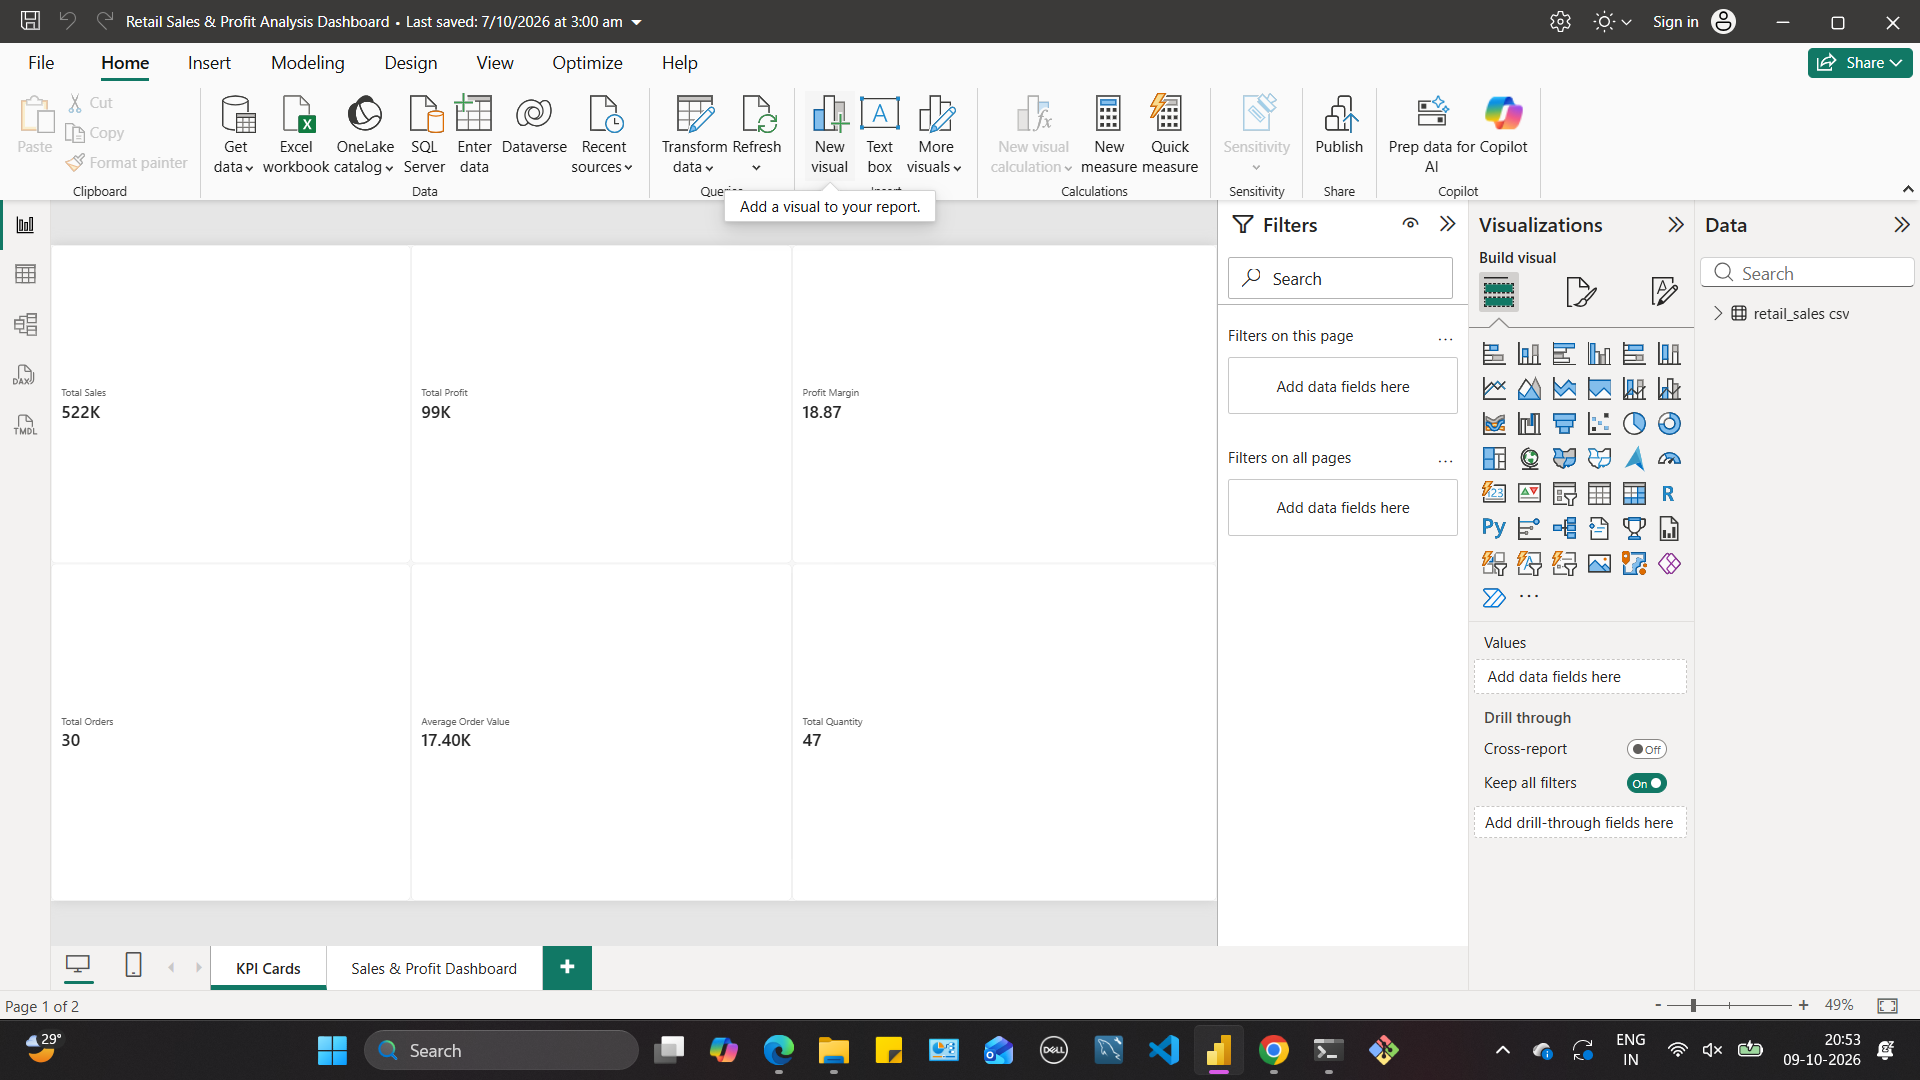

Layout of this report page (visuals, bound fields, positions):
{"tool":"powerbi","page":{"name":"KPI Cards","canvas":[1920,1080],"ordinal":0},"visuals":[{"type":"cardVisual","fields":{"Data":["retail_sales csv.Total Sales"]},"box":[0,0,592.8,524.9],"z":0},{"type":"cardVisual","fields":{"Data":["retail_sales csv.Total Profit"]},"box":[592.8,0,627.8,524.9],"z":1},{"type":"cardVisual","fields":{"Data":["retail_sales csv.Total Orders"]},"box":[0,524.9,592.8,555.7],"z":2},{"type":"cardVisual","fields":{"Data":["retail_sales csv.Average Order Value"]},"box":[592.8,524.9,627.8,555.7],"z":3},{"type":"cardVisual","fields":{"Data":["retail_sales csv.Total Quantity"]},"box":[1220.6,524.9,699.8,555.7],"z":4},{"type":"cardVisual","fields":{"Data":["retail_sales csv.Profit Margin"]},"box":[1220.6,0,699.8,524.9],"z":5}]}

Visuals, with their boxes on the page's 1920x1080 design canvas (x1, y1, x2, y2). These are canvas units, not pixel positions in the 1920x1080 screenshot, which may show the page scaled, cropped or inside an application window:
cardVisual - retail_sales csv.Total Sales: crop(0, 0, 593, 525)
cardVisual - retail_sales csv.Total Profit: crop(593, 0, 1221, 525)
cardVisual - retail_sales csv.Total Orders: crop(0, 525, 593, 1081)
cardVisual - retail_sales csv.Average Order Value: crop(593, 525, 1221, 1081)
cardVisual - retail_sales csv.Total Quantity: crop(1221, 525, 1920, 1081)
cardVisual - retail_sales csv.Profit Margin: crop(1221, 0, 1920, 525)
